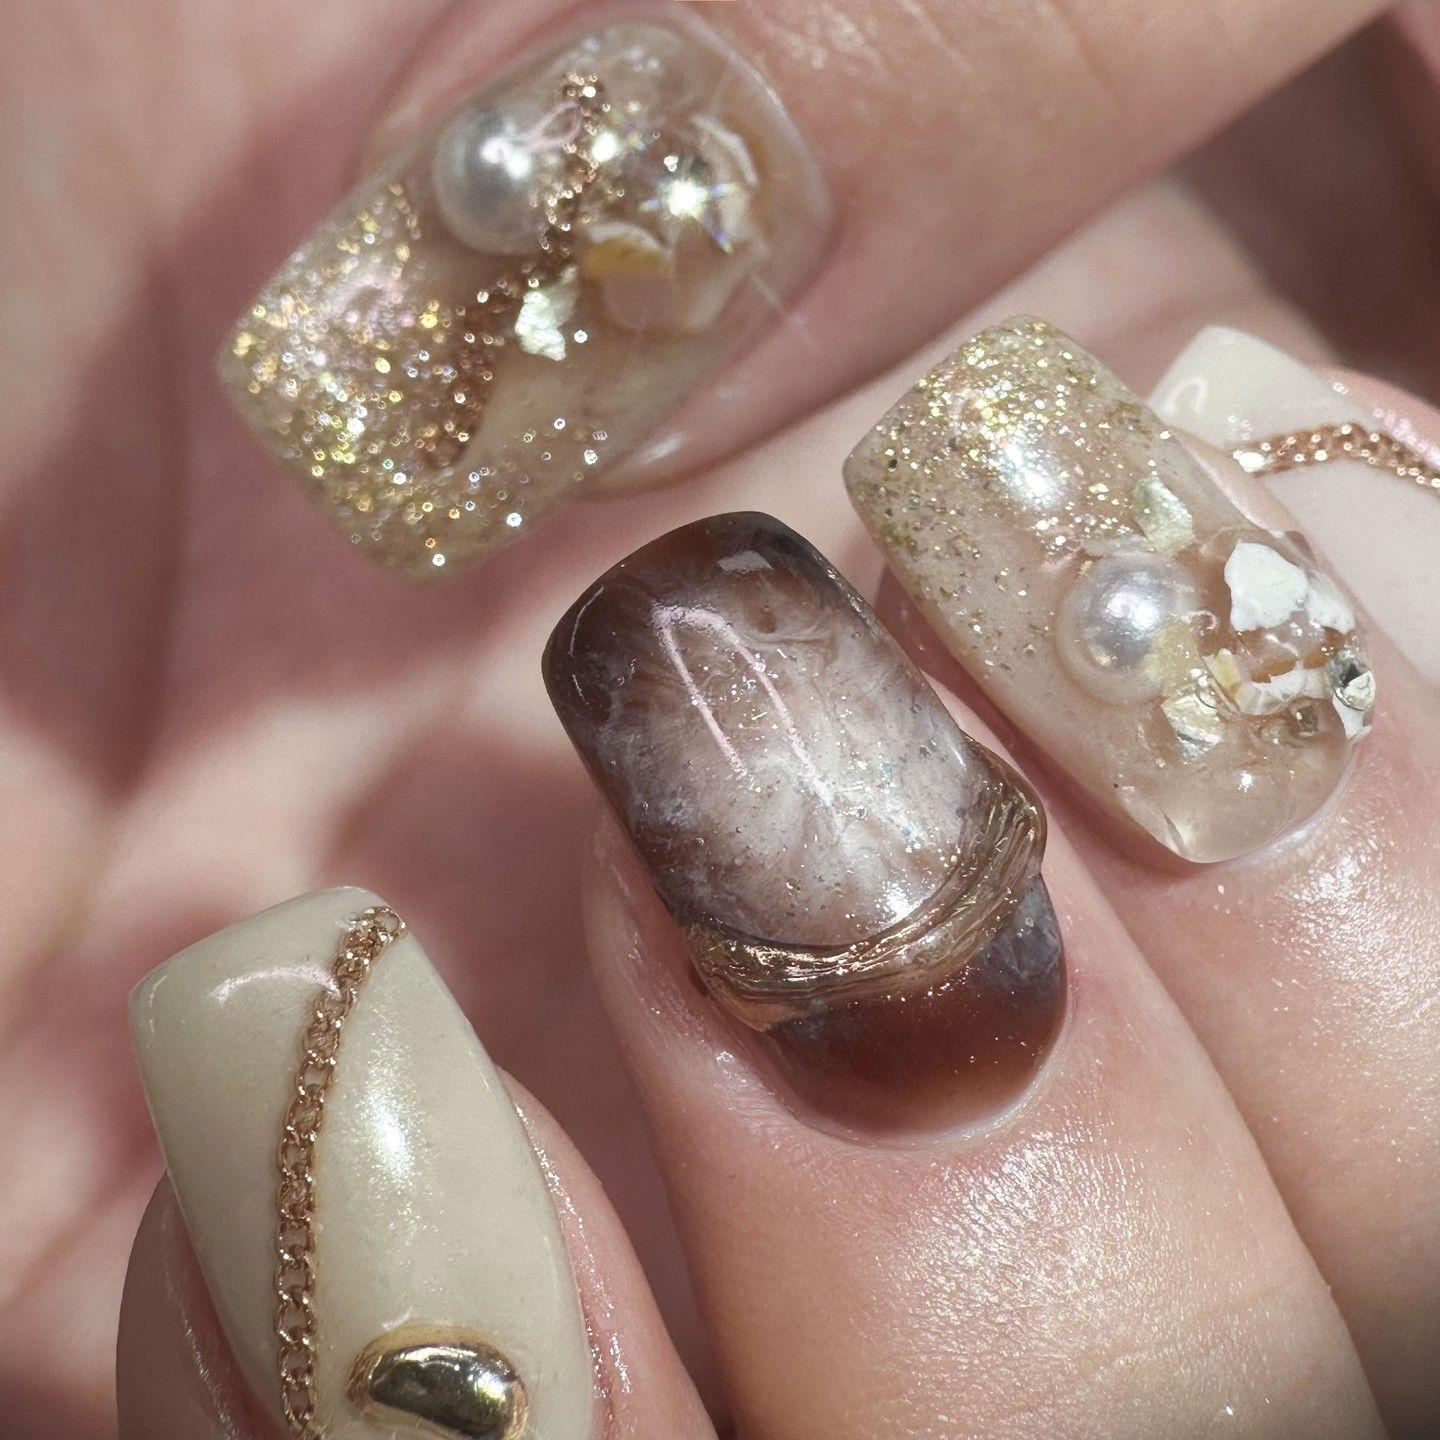nail: (214, 0, 837, 582), (541, 506, 1071, 1147), (840, 313, 1379, 869), (124, 881, 597, 1437)
